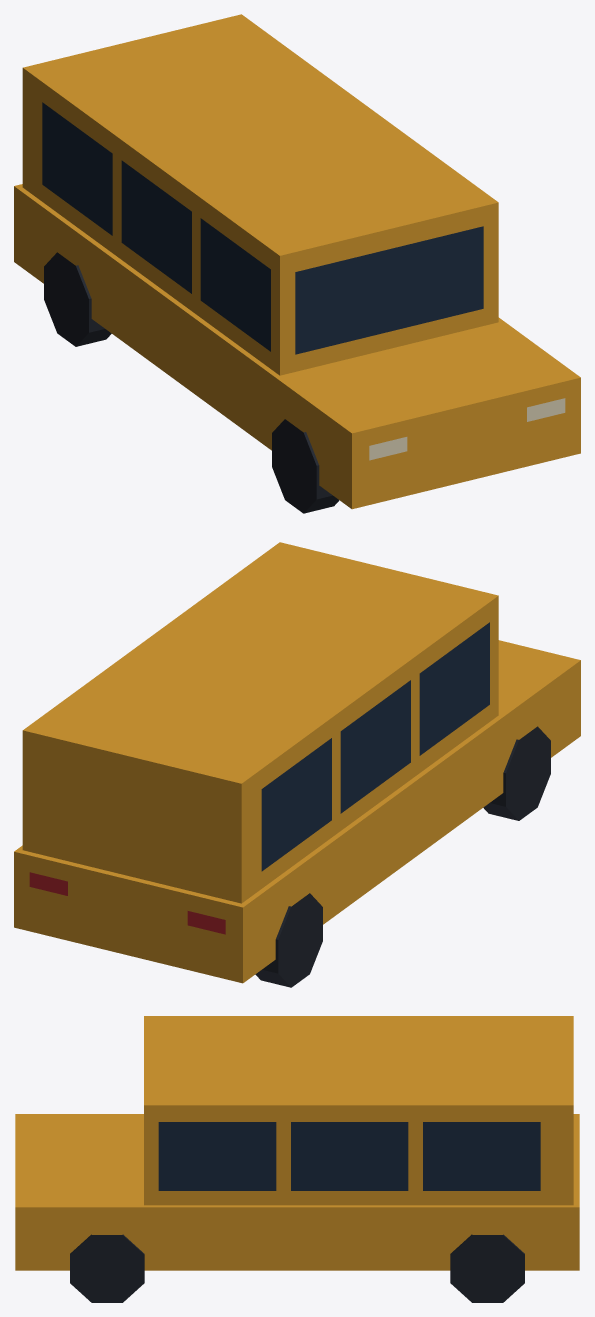
Rendered from wagon.glb.
The picture shows the model from 3 angles, top to bottom: view 1: azimuth 30°, elevation 25°; view 2: azimuth 150°, elevation 25°; view 3: azimuth 270°, elevation 25°; orthographic projection. The views are drawn at different scales.
Bounding box in the file's own units: 1.84 × 1.75 × 4.62.
